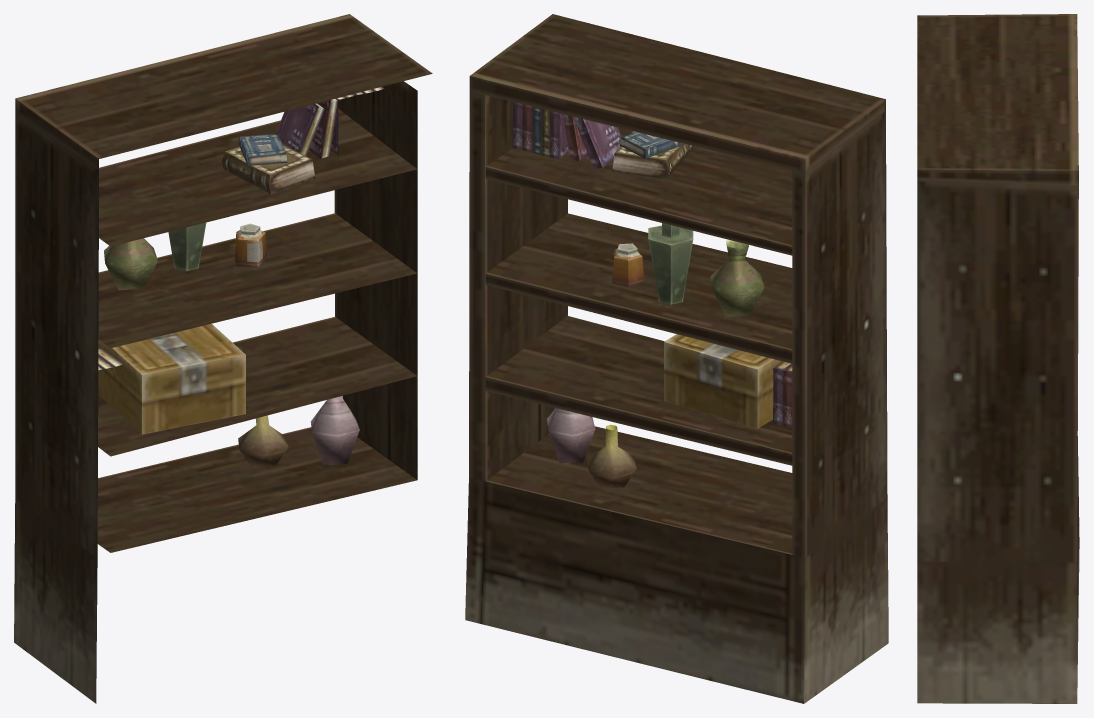
File: OZ_20_ns_hobj02A.glb
3 views of the same model, side by side, from view 1: azimuth 30°, elevation 25°; view 2: azimuth 150°, elevation 25°; view 3: azimuth 270°, elevation 25° (orthographic). The views are drawn at different scales.
Parts seen in each view (by area): view 1: OM_20_ns_hobj02A; view 2: OM_20_ns_hobj02A; view 3: OM_20_ns_hobj02A.
Part boxes in pixels (<box>): OM_20_ns_hobj02A: <box>14,14,432,703</box>; OM_20_ns_hobj02A: <box>465,14,888,703</box>; OM_20_ns_hobj02A: <box>917,14,1079,703</box>.
Size of the model in its own units: 1.54 by 2.36 by 0.653.
Materials: 3 (3 with a texture image).
